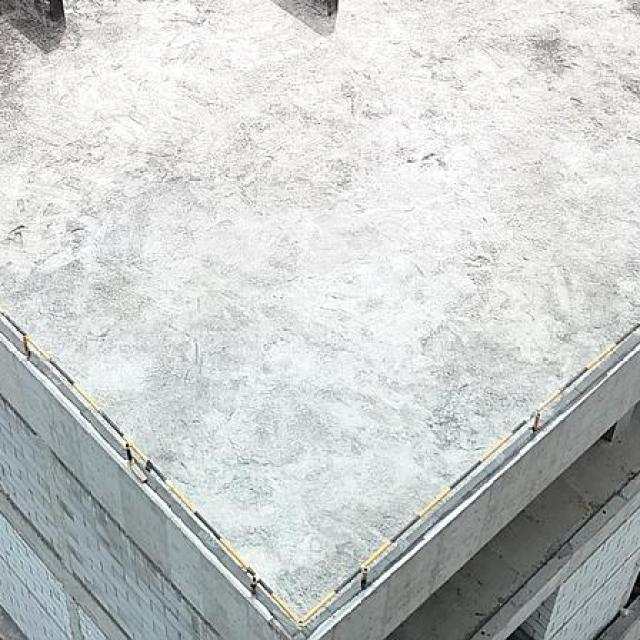Guardrail: (0, 304, 640, 634)
